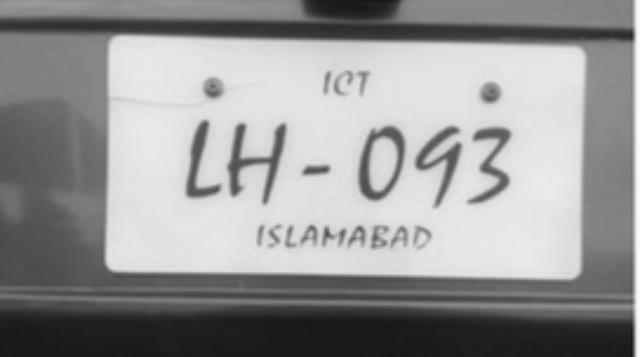Number: (182, 114, 514, 214)
